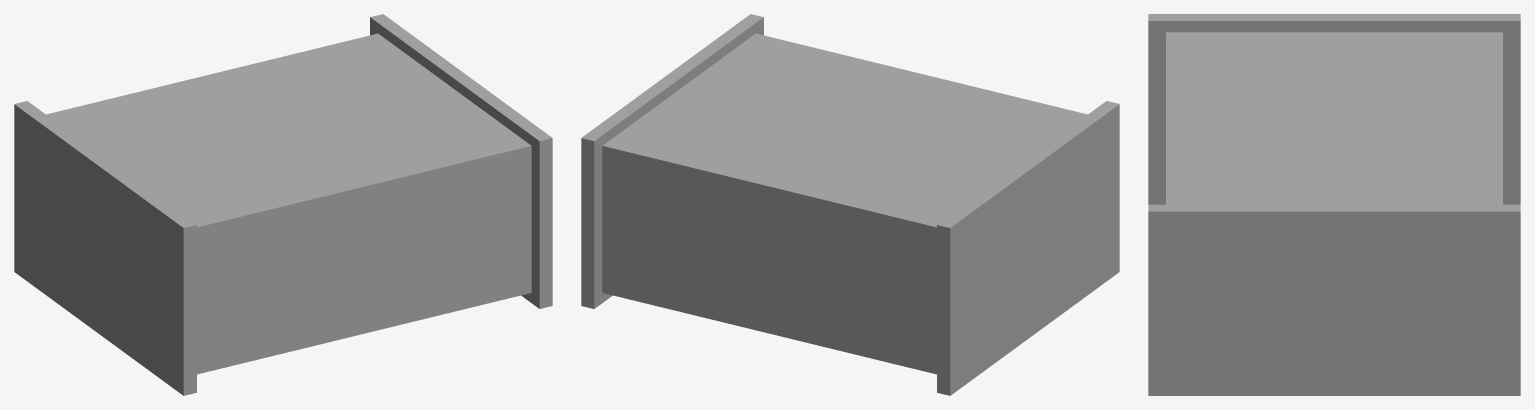
The model's file is Prop_ACVent_Stright.fbx.
3 views of the same model, side by side, from view 1: azimuth 30°, elevation 25°; view 2: azimuth 150°, elevation 25°; view 3: azimuth 270°, elevation 25° (orthographic). The views are drawn at different scales.
Parts seen in each view (by area): view 1: Prop_ACVent_Stright; view 2: Prop_ACVent_Stright; view 3: Prop_ACVent_Stright.
Part boxes in pixels (<box>): Prop_ACVent_Stright: <box>14,14,552,395</box>; Prop_ACVent_Stright: <box>581,14,1119,395</box>; Prop_ACVent_Stright: <box>1148,14,1520,395</box>.
Bounding box in the file's own units: 100 × 43.45 × 79.56.
